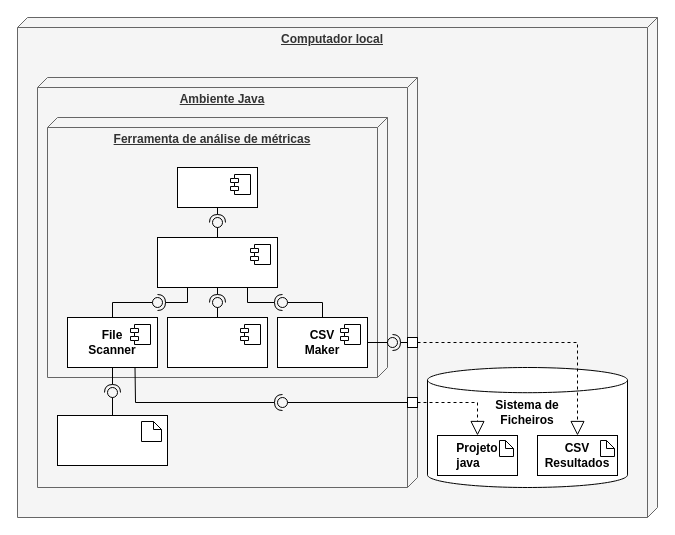
Some shapes in this 675 by 535 pixel diagram are drawn without their labels. Here are the shapes that lost their labels. From the top down, the box of each, then its label:
(176, 166, 258, 208): GUI
(156, 236, 278, 288): Project Analizer
(166, 316, 268, 368): Metric Calculator
(56, 414, 168, 466): Biblioteca JDT Core
